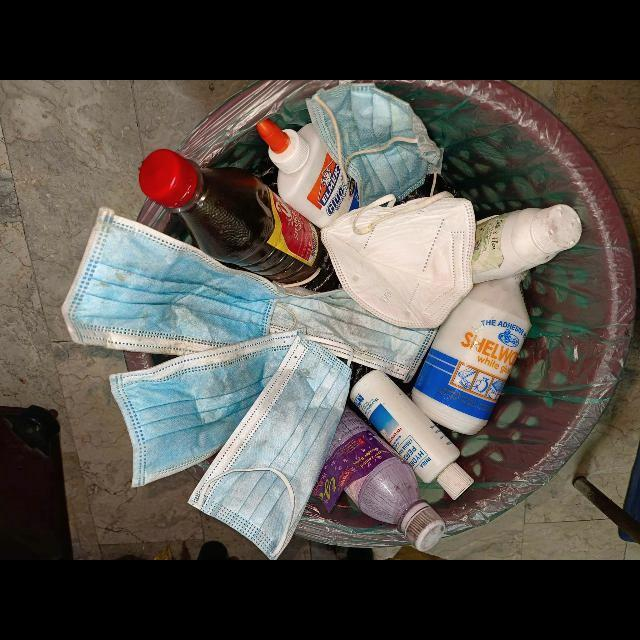plastic_bottle: (139, 149, 342, 293), (313, 406, 446, 552), (411, 277, 531, 436), (350, 370, 474, 500), (256, 120, 359, 229), (472, 204, 582, 284)
